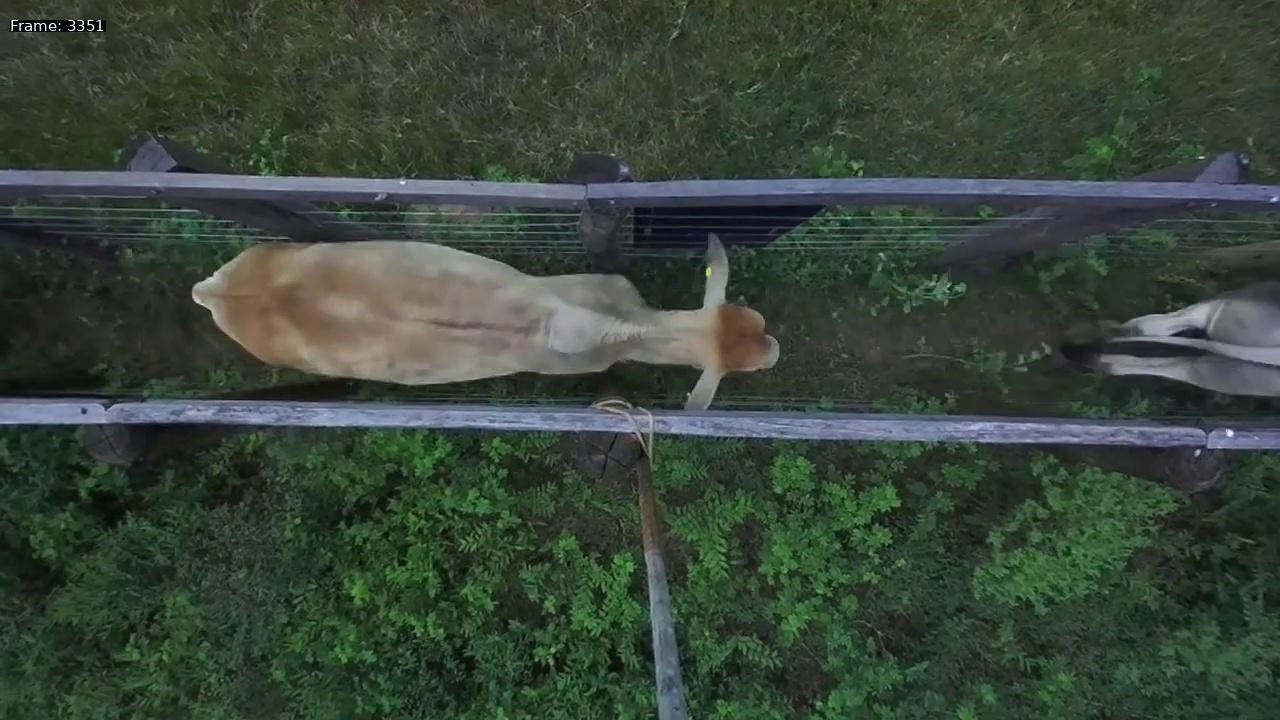cattle: (183, 193, 790, 415)
